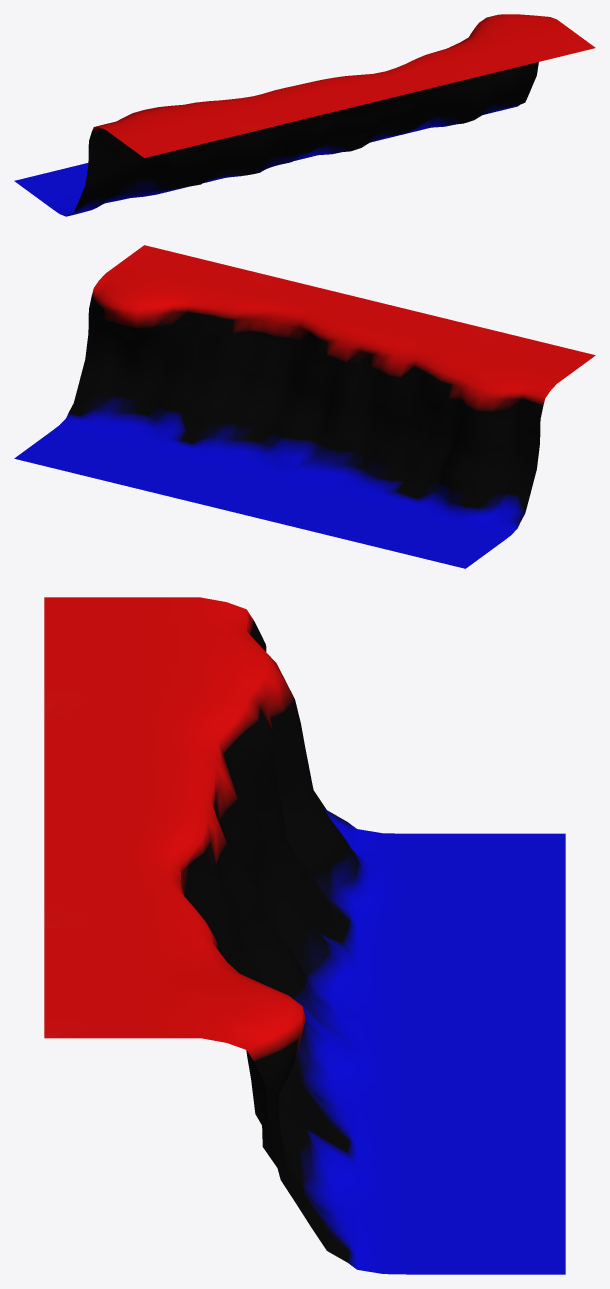
The model's file is RiveCliff02A Foreground.fbx.
3 views of the same model, one above another, from view 1: azimuth 30°, elevation 25°; view 2: azimuth 150°, elevation 25°; view 3: azimuth 270°, elevation 25° (orthographic). The views are drawn at different scales.
Parts seen in each view (by area): view 1: RiveCliff02A Foreground; view 2: RiveCliff02A Foreground; view 3: RiveCliff02A Foreground.
Boxes of the visible parts, box(x1,y1,x2,y2) form: RiveCliff02A Foreground: box(14, 14, 595, 216); RiveCliff02A Foreground: box(14, 245, 595, 568); RiveCliff02A Foreground: box(44, 597, 565, 1274).
Bounding box in the file's own units: 4 × 1 × 2.
